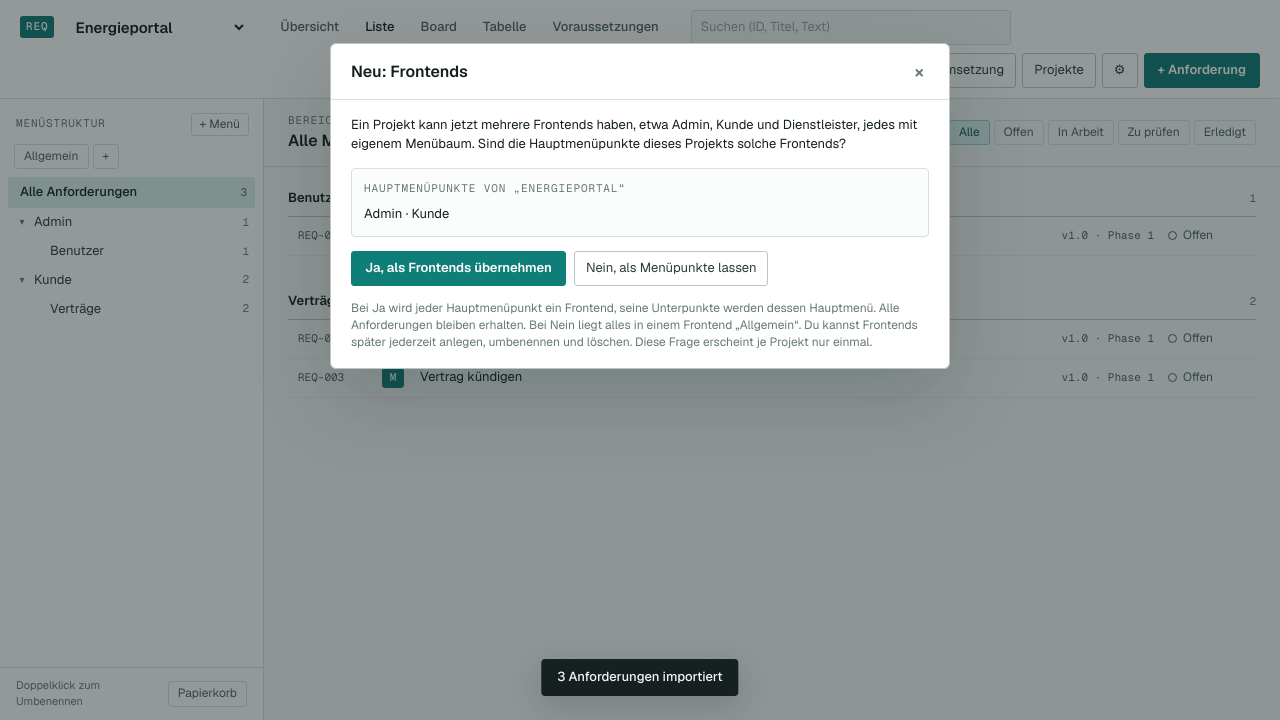
Oberfläche › fragt bei einem Projekt aus der Zeit vor dem Update einmal nach Frontends
expect the dialog with class "dialog" shows "Neu: Frontends": met, box [351,61,468,82]
expect the dialog with class "dialog" shows "Admin · Kunde": met, box [364,205,449,222]
Click the button "Ja, als Frontends übernehmen": (458, 268) [351,251,566,286]
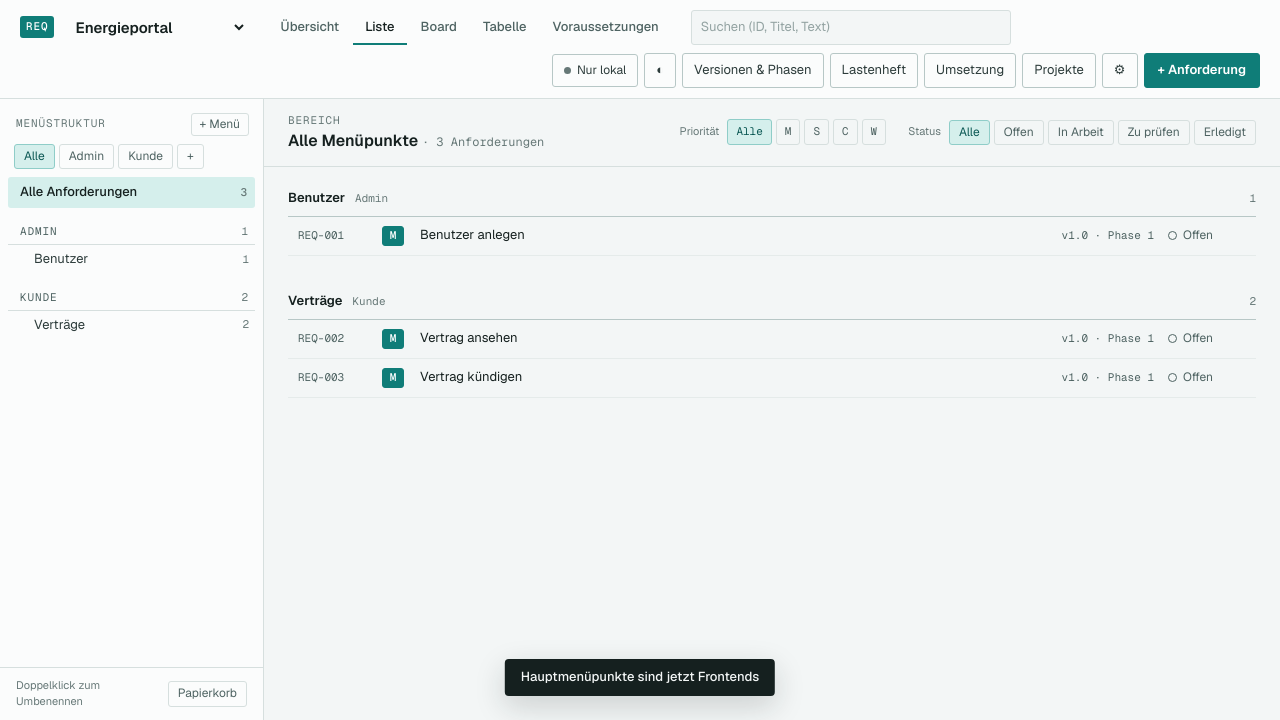
expect the dialog with class "dialog" is gone: met
